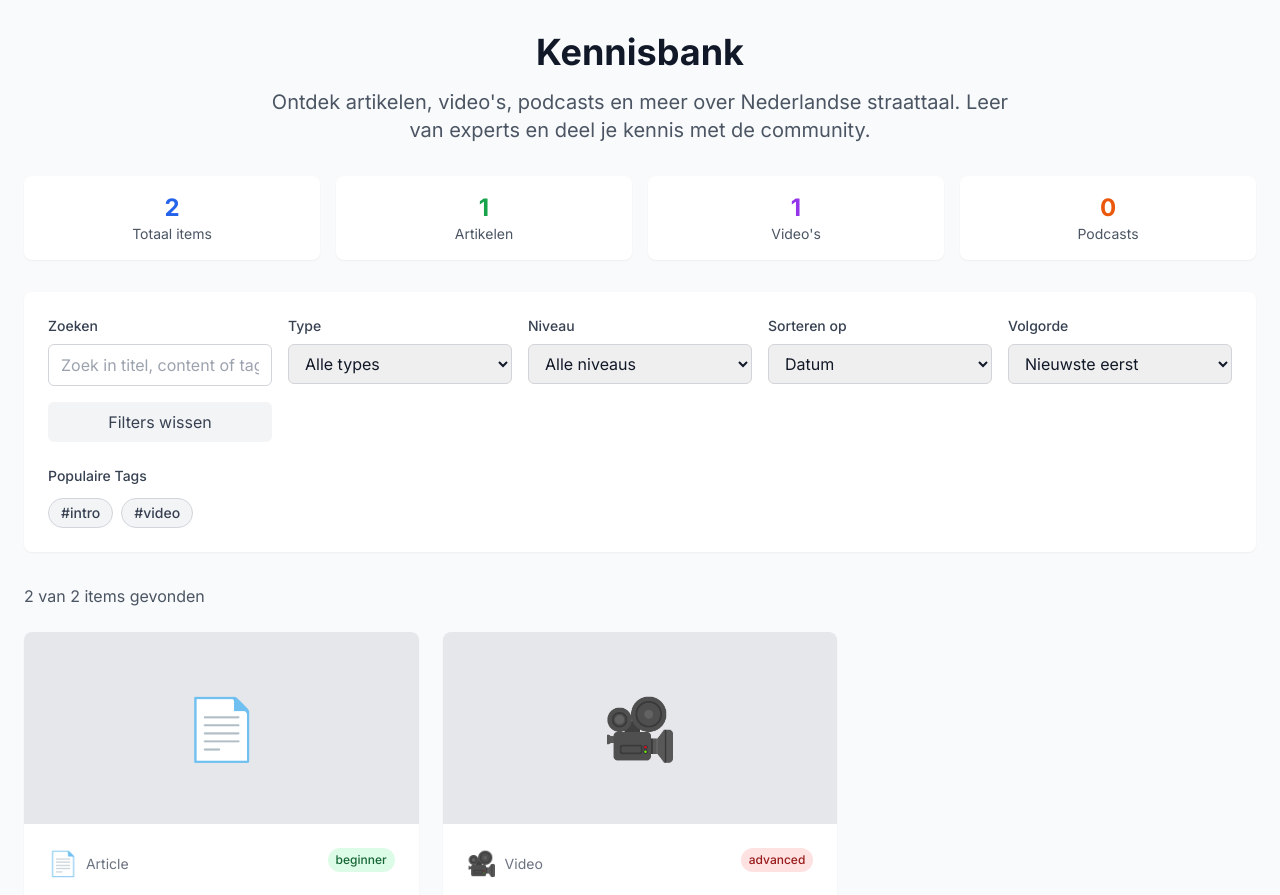
Test case: KnowledgeClient filters › filters by difficulty
This screenshot has width=1280, height=895.
Select "Gevorderd" in the dropdown labelled "Niveau": (640, 364) [528, 344, 752, 384]
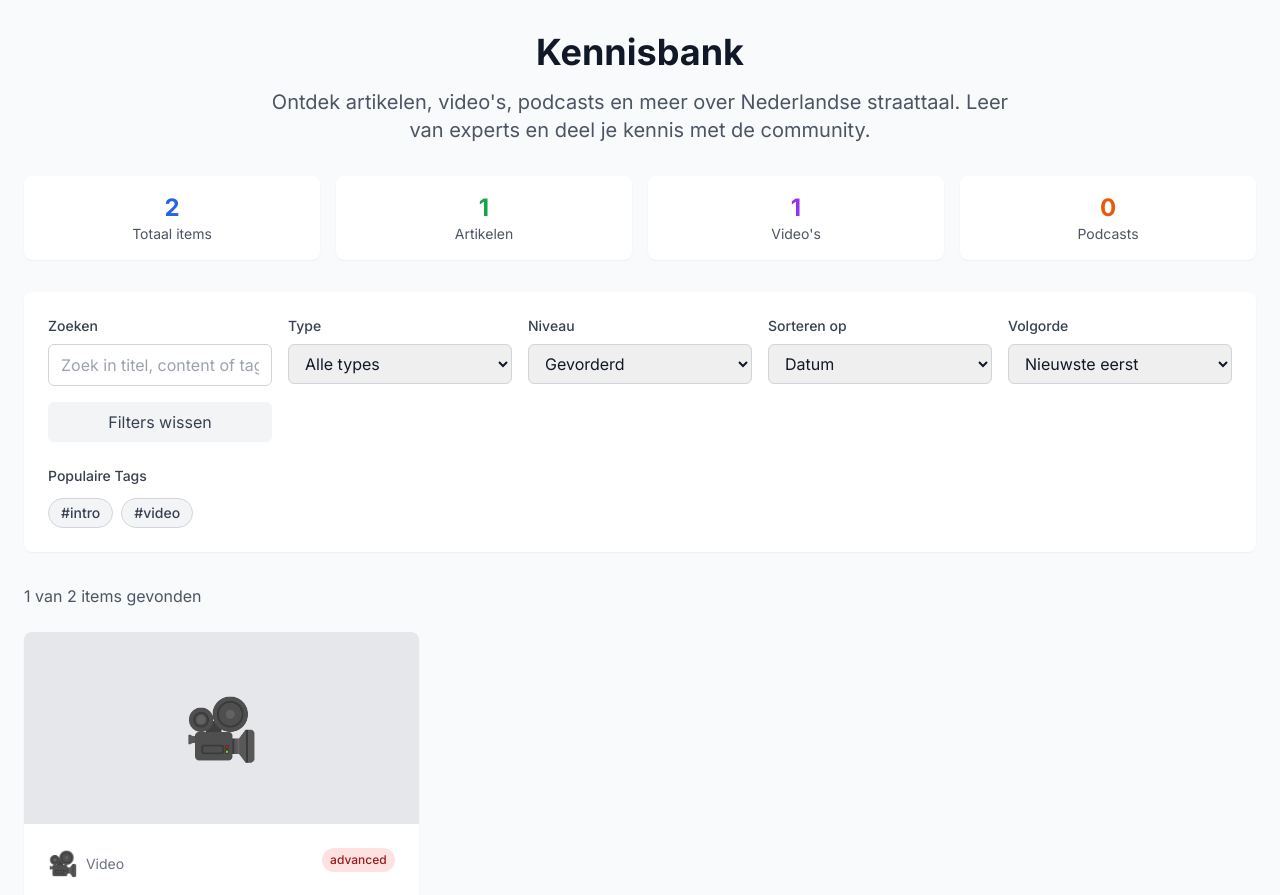
Expected: the text "1 van 2 items gevonden" is shown, [24, 586, 202, 606]
